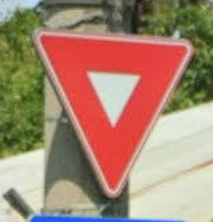cedeaza: (27, 23, 198, 214)
